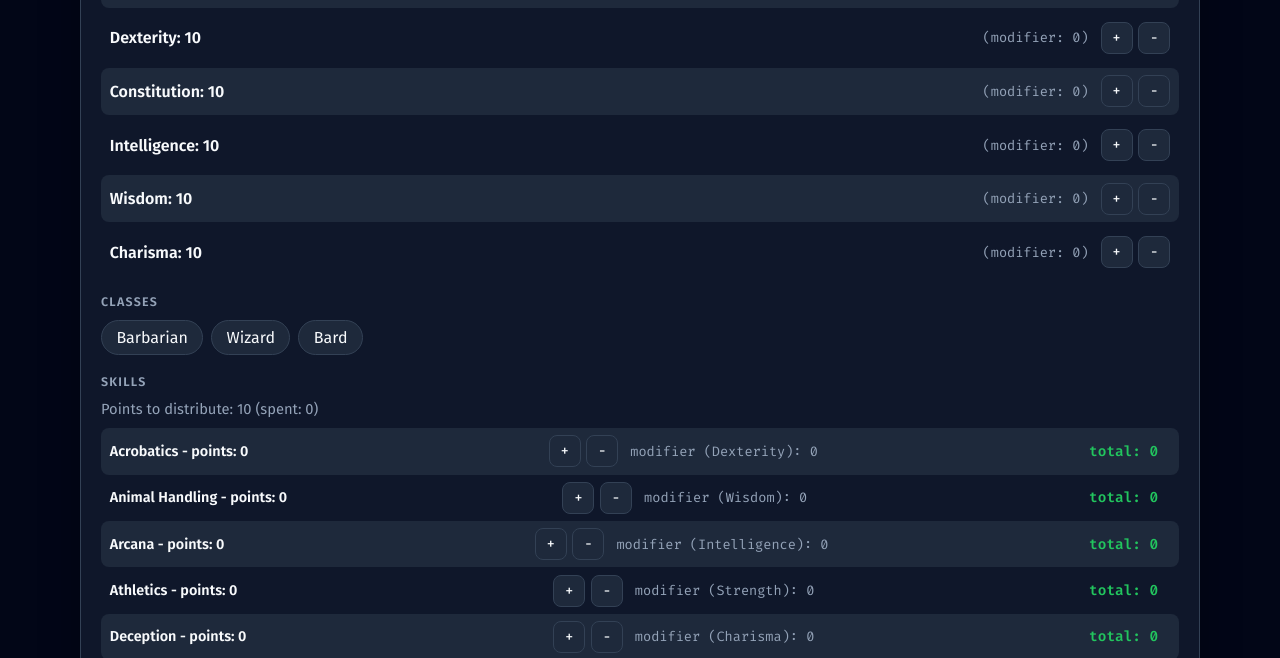
Test: clicking a class shows its required stats from CLASS_LIST
(page scrolled)
Click the button "Barbarian" at (152, 338), box [101,320,203,355]
(page scrolled)
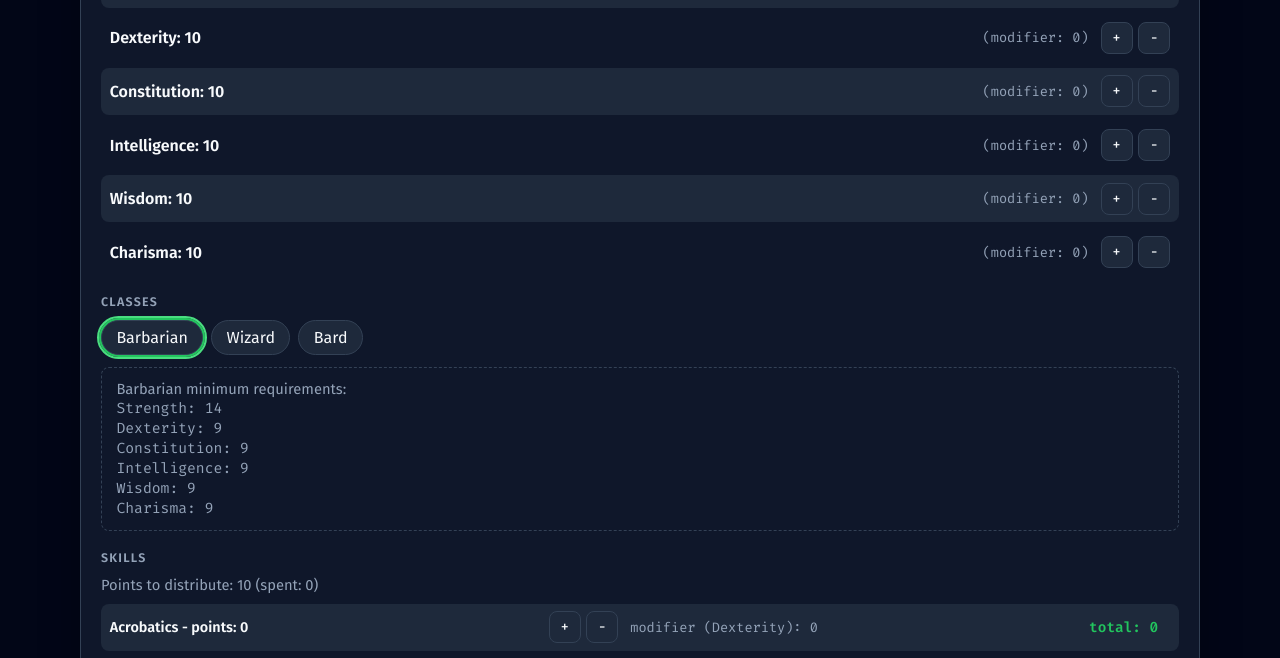
Expected: the text "Barbarian minimum requirements" is shown, [101,367,1179,531]
Expected: the text "Strength: 14" is shown, [116,398,222,418]
